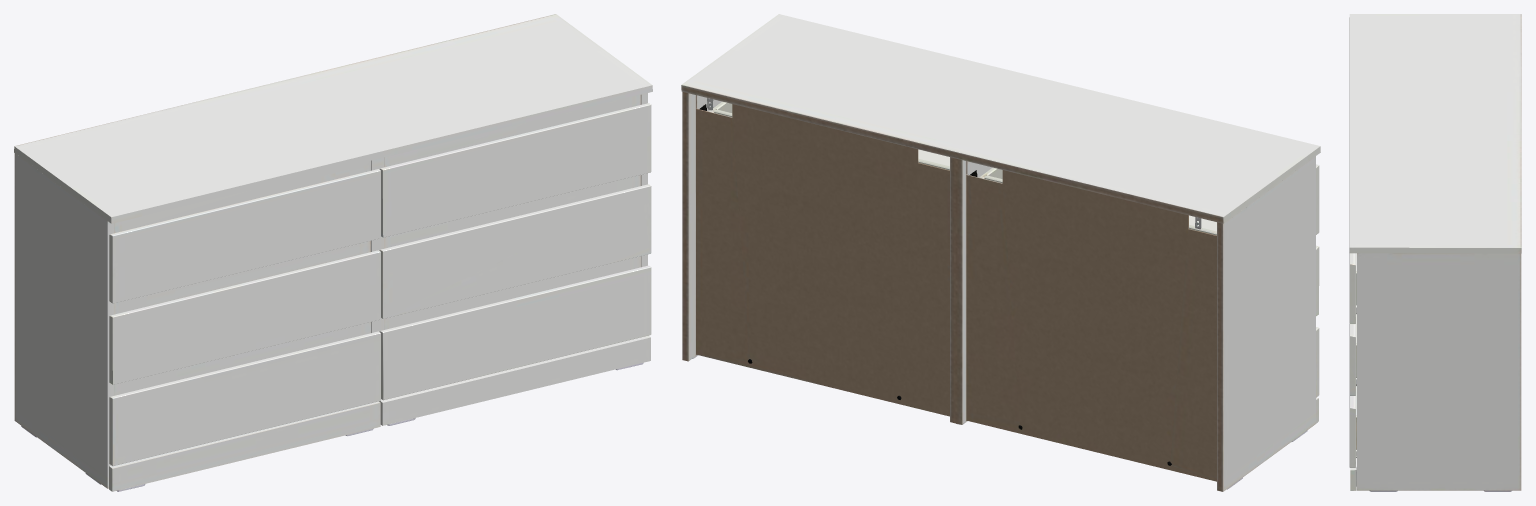
Rendered from lillberget_komoda_6_szuflad_40630479.glb.
3 renders of one model, left to right at view 1: azimuth 30°, elevation 25°; view 2: azimuth 150°, elevation 25°; view 3: azimuth 270°, elevation 25°, orthographic. The views are drawn at different scales.
Visible parts, largest first — view 1: lillberget_komoda_6_szuflad_40630479; view 2: lillberget_komoda_6_szuflad_40630479; view 3: lillberget_komoda_6_szuflad_40630479.
Part boxes in pixels (x1=…): lillberget_komoda_6_szuflad_40630479: x1=14, y1=14, x2=652, y2=491; lillberget_komoda_6_szuflad_40630479: x1=681, y1=14, x2=1320, y2=491; lillberget_komoda_6_szuflad_40630479: x1=1349, y1=14, x2=1521, y2=491.
Bounding box in the file's own units: 1.4 × 0.683 × 0.4341.
1 material, 1 textured.
